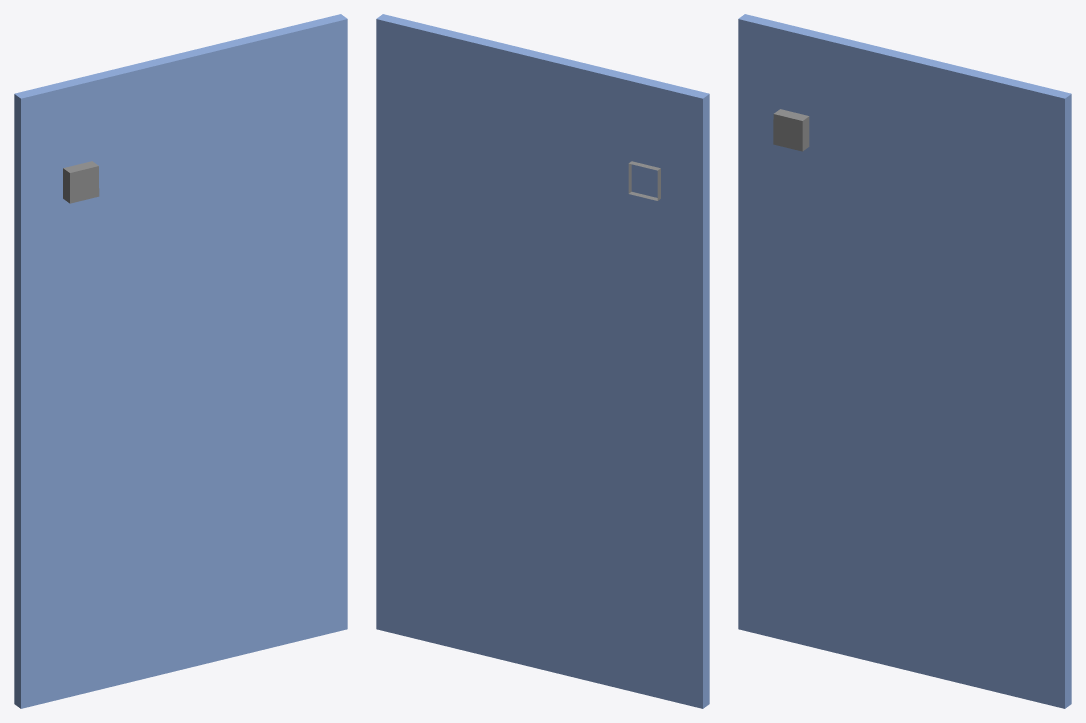
The model's file is Armario02_Puerta02.fbx.
The picture shows the model from 3 angles, left to right: view 1: azimuth 30°, elevation 25°; view 2: azimuth 150°, elevation 25°; view 3: azimuth 330°, elevation 25°; orthographic projection.
Visible parts, largest first — view 1: Armario02_Puerta02; view 2: Armario02_Puerta02; view 3: Armario02_Puerta02.
Boxes of the visible parts, <box> form: Armario02_Puerta02: <box>14,14,347,708</box>; Armario02_Puerta02: <box>376,14,709,708</box>; Armario02_Puerta02: <box>738,14,1071,708</box>.
Bounding box in the file's own units: 24.95 × 44.51 × 2.24.
